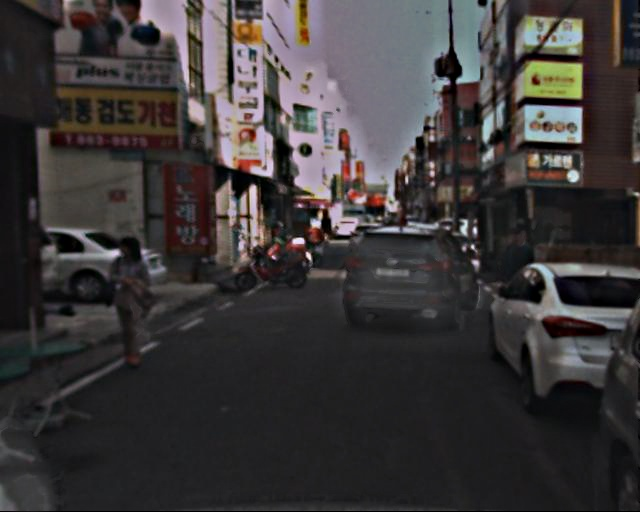person: (102, 231, 167, 367), (500, 226, 546, 323)
